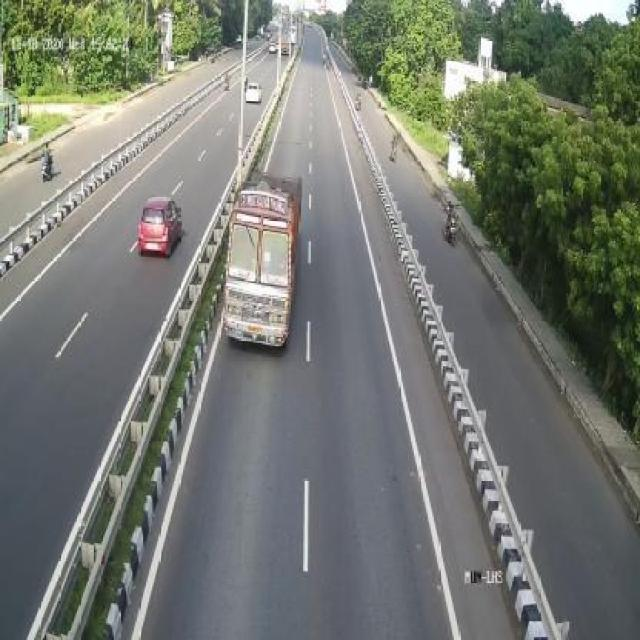car: (138, 192, 184, 263), (243, 79, 263, 106)
